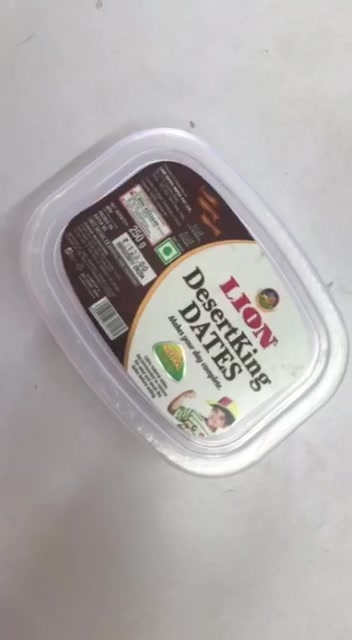Lion dates: (25, 129, 348, 477)
